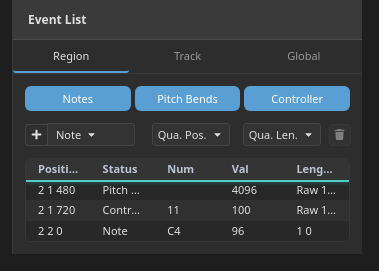
Test case: EventListPanel › shows track empty state when no track is selected
Click the button "Track".
click(187, 56)  # box left=129, top=40, right=246, bottom=73
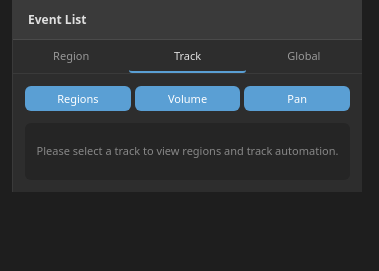
Check: the text "Please select a track to view regions and track automation." is shown, box left=25, top=123, right=350, bottom=180
